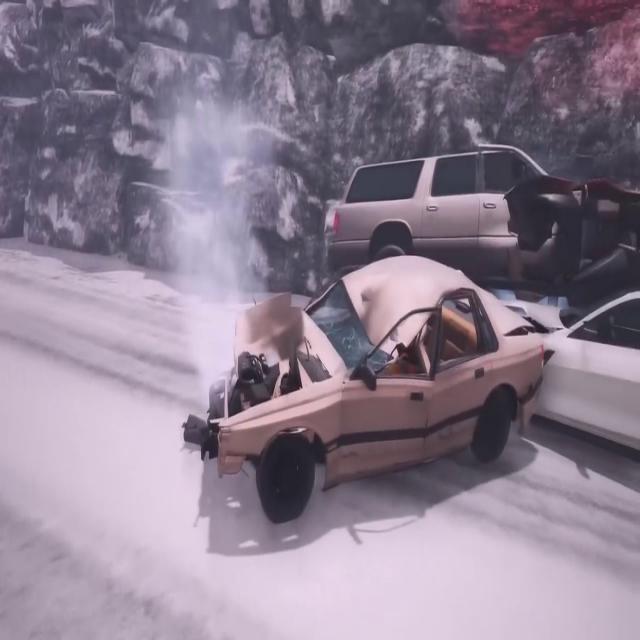accident: (193, 137, 639, 532)
